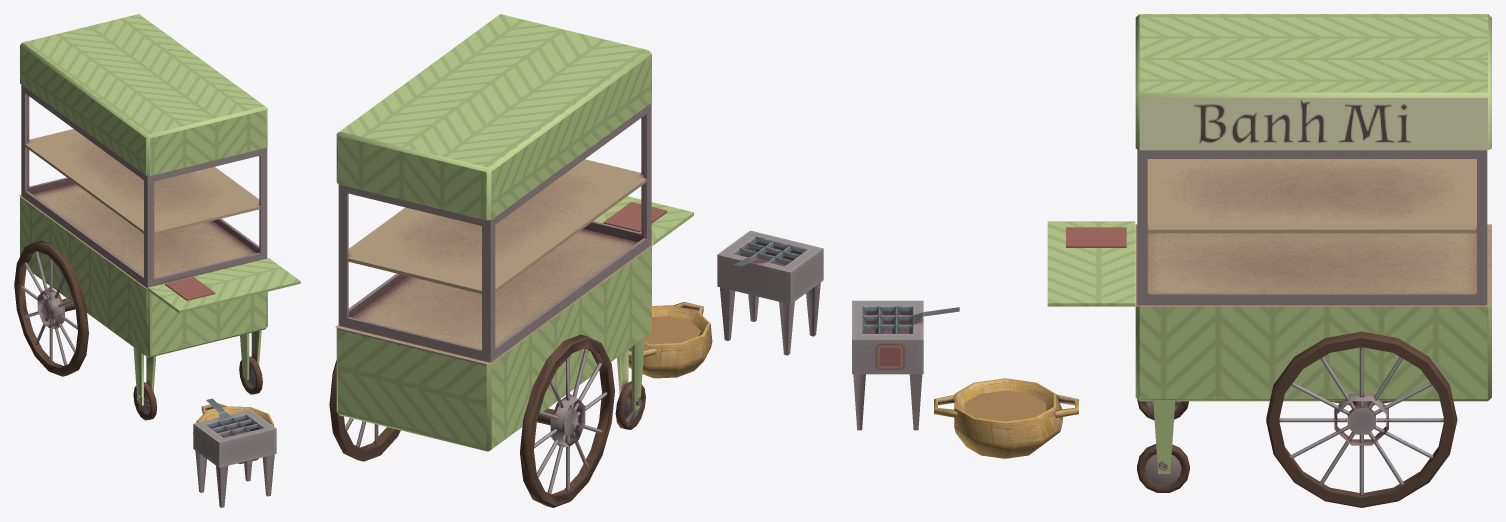
The model's file is 2lvl_viet.glb.
3 renders of one model, left to right at view 1: azimuth 30°, elevation 25°; view 2: azimuth 150°, elevation 25°; view 3: azimuth 270°, elevation 25°, orthographic. The views are drawn at different scales.
Visible parts, largest first — view 1: 2lvl_viet; view 2: 2lvl_viet; view 3: 2lvl_viet.
Part boxes in pixels (<box>): 2lvl_viet: <box>14,14,300,507</box>; 2lvl_viet: <box>329,14,823,507</box>; 2lvl_viet: <box>852,14,1491,507</box>.
Bounding box in the file's own units: 0.7558 × 1.23 × 1.76.
Materials: 1 (1 with a texture image).
